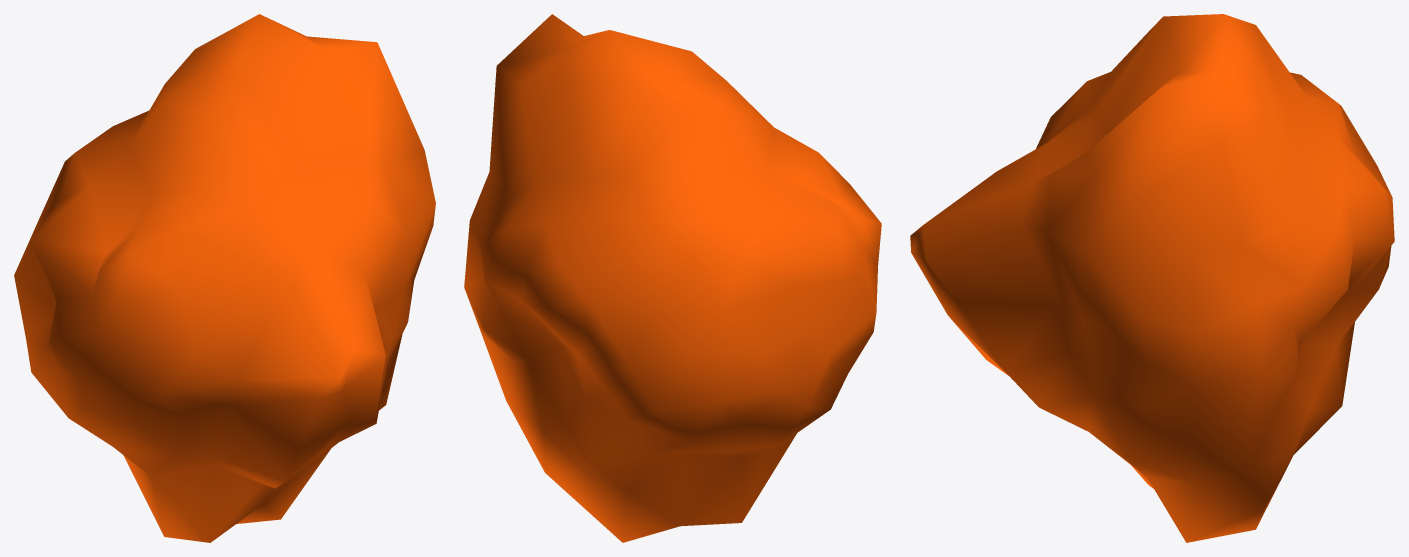
File: asteroid_01.fbx
The picture shows the model from 3 angles, left to right: view 1: azimuth 30°, elevation 25°; view 2: azimuth 150°, elevation 25°; view 3: azimuth 270°, elevation 25°; orthographic projection. The views are drawn at different scales.
Parts seen in each view (by area): view 1: Icosphere; view 2: Icosphere; view 3: Icosphere.
Part boxes in pixels (left/top/right/bottom): Icosphere: left=14, top=14, right=435, bottom=542; Icosphere: left=464, top=14, right=881, bottom=542; Icosphere: left=910, top=14, right=1394, bottom=542.
Size of the model in its own units: 1.8 by 2.28 by 1.89.
Materials: 1 (1 with a texture image).
